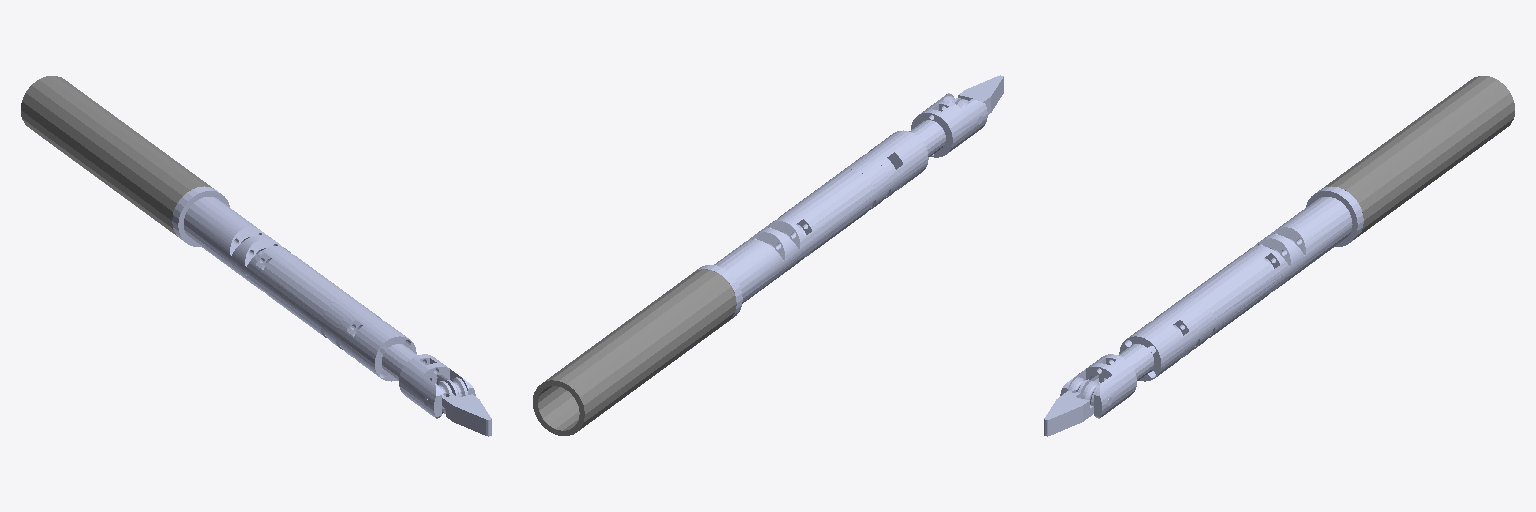
robot.urdf — V6_snake_URDF:
<?xml version="1.0" encoding="utf-8"?>
<!-- This URDF was automatically created by SolidWorks to URDF Exporter! Originally created by [author] ([email redacted]) 
     Commit Version: 1.6.0-4-g7f85cfe  Build Version: 1.6.7995.38578
     For more information, please see http://wiki.ros.org/sw_urdf_exporter -->
<robot
  name="V6_snake_URDF">
  <link
    name="base_link">
    <inertial>
      <origin
        xyz="-6.00193186120165E-19 -0.025 1.53075794227797E-18"
        rpy="0 0 0" />
      <mass
        value="0.00141371669411541" />
      <inertia
        ixx="3.09014907388726E-07"
        ixy="4.5457171897477E-39"
        ixz="-1.53575401744575E-40"
        iyy="2.89811922293659E-08"
        iyz="1.71465533434319E-23"
        izz="3.09014907388726E-07" />
    </inertial>
    <visual>
      <origin
        xyz="0 0 0"
        rpy="0 0 0" />
      <geometry>
        <mesh
          filename="package://V6_snake_URDF/meshes/base_link.STL" />
      </geometry>
      <material
        name="">
        <color
          rgba="0.6 0.6 0.6 1" />
      </material>
    </visual>
    <collision>
      <origin
        xyz="0 0 0"
        rpy="0 0 0" />
      <geometry>
        <mesh
          filename="package://V6_snake_URDF/meshes/base_link.STL" />
      </geometry>
    </collision>
  </link>
  <link
    name="snake_start_link">
    <inertial>
      <origin
        xyz="1.24160955017755E-09 -4.45492593524487E-05 -0.00957068753862889"
        rpy="0 0 0" />
      <mass
        value="0.000713238856062597" />
      <inertia
        ixx="3.17193124467156E-08"
        ixy="-2.20994755072542E-14"
        ixz="2.97494751897254E-15"
        iyy="3.17923732905446E-08"
        iyz="3.6370682285876E-10"
        izz="8.48646547018518E-09" />
    </inertial>
    <visual>
      <origin
        xyz="0 0 0"
        rpy="0 0 0" />
      <geometry>
        <mesh
          filename="package://V6_snake_URDF/meshes/snake_start_link.STL" />
      </geometry>
      <material
        name="">
        <color
          rgba="0.792156862745098 0.819607843137255 0.933333333333333 1" />
      </material>
    </visual>
    <collision>
      <origin
        xyz="0 0 0"
        rpy="0 0 0" />
      <geometry>
        <mesh
          filename="package://V6_snake_URDF/meshes/snake_start_link.STL" />
      </geometry>
    </collision>
  </link>
  <joint
    name="base_joint"
    type="prismatic">
    <origin
      xyz="0 -0.065 0"
      rpy="1.5708 0 0" />
    <parent
      link="base_link" />
    <child
      link="snake_start_link" />
    <axis
      xyz="0 0 1" />
    <limit
      lower="0"
      upper="0.2"
      effort="10"
      velocity="0.05" />
  </joint>
  <link
    name="shoulder_link">
    <inertial>
      <origin
        xyz="5.78425918277461E-08 -0.000557511336345803 0.00257487919106872"
        rpy="0 0 0" />
      <mass
        value="0.000114145071751143" />
      <inertia
        ixx="7.42514291105753E-10"
        ixy="-5.39522630107474E-14"
        ixz="1.84240253801457E-14"
        iyy="8.86624025245541E-10"
        iyz="-4.969337287048E-12"
        izz="1.2304404774517E-09" />
    </inertial>
    <visual>
      <origin
        xyz="0 0 0"
        rpy="0 0 0" />
      <geometry>
        <mesh
          filename="package://V6_snake_URDF/meshes/shoulder_link.STL" />
      </geometry>
      <material
        name="">
        <color
          rgba="0.792156862745098 0.819607843137255 0.933333333333333 1" />
      </material>
    </visual>
    <collision>
      <origin
        xyz="0 0 0"
        rpy="0 0 0" />
      <geometry>
        <mesh
          filename="package://V6_snake_URDF/meshes/shoulder_link.STL" />
      </geometry>
    </collision>
  </link>
  <joint
    name="shoulder_joint_prox"
    type="revolute">
    <origin
      xyz="0 0 0.0025"
      rpy="0 0 0" />
    <parent
      link="snake_start_link" />
    <child
      link="shoulder_link" />
    <axis
      xyz="1 0 0" />
    <limit
      lower="-0.785"
      upper="0"
      effort="1"
      velocity="1" />
  </joint>
  <link
    name="upperarm_link">
    <inertial>
      <origin
        xyz="-6.43813924643318E-09 1.46099472408447E-07 0.0129457663941619"
        rpy="0 0 0" />
      <mass
        value="0.000667220219941384" />
      <inertia
        ixx="3.38428069088239E-08"
        ixy="4.6496287404122E-14"
        ixz="-3.07986658596154E-14"
        iyy="3.39499671411492E-08"
        iyz="7.54026676061116E-10"
        izz="7.46250320454321E-09" />
    </inertial>
    <visual>
      <origin
        xyz="0 0 0"
        rpy="0 0 0" />
      <geometry>
        <mesh
          filename="package://V6_snake_URDF/meshes/upperarm_link.STL" />
      </geometry>
      <material
        name="">
        <color
          rgba="0.792156862745098 0.819607843137255 0.933333333333333 1" />
      </material>
    </visual>
    <collision>
      <origin
        xyz="0 0 0"
        rpy="0 0 0" />
      <geometry>
        <mesh
          filename="package://V6_snake_URDF/meshes/upperarm_link.STL" />
      </geometry>
    </collision>
  </link>
  <joint
    name="shoulder_joint_dist"
    type="revolute">
    <origin
      xyz="0 0 0.005"
      rpy="0 0 -3.14159265358979" />
    <parent
      link="shoulder_link" />
    <child
      link="upperarm_link" />
    <axis
      xyz="-1 0 0" />
    <limit
      lower="0"
      upper="0.785"
      effort="1"
      velocity="1" />
  </joint>
  <link
    name="elbow_link">
    <inertial>
      <origin
        xyz="5.78425918213392E-08 -0.000557511336345775 0.00257487919106873"
        rpy="0 0 0" />
      <mass
        value="0.000114145071751143" />
      <inertia
        ixx="7.42514291105759E-10"
        ixy="-5.39522630108521E-14"
        ixz="1.84240253795315E-14"
        iyy="8.86624025245547E-10"
        iyz="-4.96933728704794E-12"
        izz="1.23044047745171E-09" />
    </inertial>
    <visual>
      <origin
        xyz="0 0 0"
        rpy="0 0 0" />
      <geometry>
        <mesh
          filename="package://V6_snake_URDF/meshes/elbow_link.STL" />
      </geometry>
      <material
        name="">
        <color
          rgba="0.792156862745098 0.819607843137255 0.933333333333333 1" />
      </material>
    </visual>
    <collision>
      <origin
        xyz="0 0 0"
        rpy="0 0 0" />
      <geometry>
        <mesh
          filename="package://V6_snake_URDF/meshes/elbow_link.STL" />
      </geometry>
    </collision>
  </link>
  <joint
    name="elbow_joint_prox"
    type="revolute">
    <origin
      xyz="0 0 0.025"
      rpy="0 0 0" />
    <parent
      link="upperarm_link" />
    <child
      link="elbow_link" />
    <axis
      xyz="1 0 0" />
    <limit
      lower="-0.785"
      upper="0"
      effort="1"
      velocity="1" />
  </joint>
  <link
    name="forearm_link">
    <inertial>
      <origin
        xyz="-1.58174478649762E-08 0.000113577337572625 0.00663378686142239"
        rpy="0 0 0" />
      <mass
        value="0.000279249014923545" />
      <inertia
        ixx="5.12138448350693E-09"
        ixy="-9.0875146547501E-15"
        ixz="-2.11131737053282E-14"
        iyy="5.16018470733378E-09"
        iyz="1.90926868836851E-10"
        izz="3.23762727773142E-09" />
    </inertial>
    <visual>
      <origin
        xyz="0 0 0"
        rpy="0 0 0" />
      <geometry>
        <mesh
          filename="package://V6_snake_URDF/meshes/forearm_link.STL" />
      </geometry>
      <material
        name="">
        <color
          rgba="0.792156862745098 0.819607843137255 0.933333333333333 1" />
      </material>
    </visual>
    <collision>
      <origin
        xyz="0 0 0"
        rpy="0 0 0" />
      <geometry>
        <mesh
          filename="package://V6_snake_URDF/meshes/forearm_link.STL" />
      </geometry>
    </collision>
  </link>
  <joint
    name="elbow_joint_dist"
    type="revolute">
    <origin
      xyz="0 0 0.00500000000000002"
      rpy="0 0 3.14159265358979" />
    <parent
      link="elbow_link" />
    <child
      link="forearm_link" />
    <axis
      xyz="-1 0 0" />
    <limit
      lower="0"
      upper="0.785"
      effort="1"
      velocity="1" />
  </joint>
  <link
    name="hand_link">
    <inertial>
      <origin
        xyz="-4.08142888056513E-10 -9.15879971724246E-10 0.011037074265158"
        rpy="0 0 0" />
      <mass
        value="0.000404964898437663" />
      <inertia
        ixx="1.35662740180767E-08"
        ixy="7.12341238548104E-15"
        ixz="-8.95894024126752E-16"
        iyy="1.43952427195592E-08"
        iyz="3.05221398270557E-15"
        izz="3.38277628514735E-09" />
    </inertial>
    <visual>
      <origin
        xyz="0 0 0"
        rpy="0 0 0" />
      <geometry>
        <mesh
          filename="package://V6_snake_URDF/meshes/hand_link.STL" />
      </geometry>
      <material
        name="">
        <color
          rgba="0.792156862745098 0.819607843137255 0.933333333333333 1" />
      </material>
    </visual>
    <collision>
      <origin
        xyz="0 0 0"
        rpy="0 0 0" />
      <geometry>
        <mesh
          filename="package://V6_snake_URDF/meshes/hand_link.STL" />
      </geometry>
    </collision>
  </link>
  <joint
    name="wrist_joint"
    type="revolute">
    <origin
      xyz="0 0 0.0105"
      rpy="0 0 0" />
    <parent
      link="forearm_link" />
    <child
      link="hand_link" />
    <axis
      xyz="0 0 -1" />
    <limit
      lower="-1.57"
      upper="1.57"
      effort="1"
      velocity="1" />
  </joint>
  <link
    name="gripper_1">
    <inertial>
      <origin
        xyz="-0.00064475917825679 0.00180385117361328 0.00394960361493563"
        rpy="0 0 0" />
      <mass
        value="9.59439630385687E-05" />
      <inertia
        ixx="1.92258072211134E-09"
        ixy="-1.01528315485198E-10"
        ixz="-2.27687484832753E-10"
        iyy="1.70112204989544E-09"
        iyz="-6.33499031928457E-10"
        izz="4.99400354933341E-10" />
    </inertial>
    <visual>
      <origin
        xyz="0 0 0"
        rpy="0 0 0" />
      <geometry>
        <mesh
          filename="package://V6_snake_URDF/meshes/gripper_1.STL" />
      </geometry>
      <material
        name="">
        <color
          rgba="0.792156862745098 0.819607843137255 0.933333333333333 1" />
      </material>
    </visual>
    <collision>
      <origin
        xyz="0 0 0"
        rpy="0 0 0" />
      <geometry>
        <mesh
          filename="package://V6_snake_URDF/meshes/gripper_1.STL" />
      </geometry>
    </collision>
  </link>
  <joint
    name="gripper_joint_1"
    type="revolute">
    <origin
      xyz="0 0 0.019"
      rpy="0.329304747776595 0 0" />
    <parent
      link="hand_link" />
    <child
      link="gripper_1" />
    <axis
      xyz="-1 0 0" />
    <limit
      lower="-0.785"
      upper="0"
      effort="1"
      velocity="1" />
  </joint>
  <link
    name="gripper_2">
    <inertial>
      <origin
        xyz="-0.00064476 0.0018039 0.0039496"
        rpy="0 0 0" />
      <mass
        value="9.5944E-05" />
      <inertia
        ixx="1.9226E-09"
        ixy="-1.0153E-10"
        ixz="-2.2769E-10"
        iyy="1.7011E-09"
        iyz="-6.335E-10"
        izz="4.994E-10" />
    </inertial>
    <visual>
      <origin
        xyz="0 0 0"
        rpy="0 0 0" />
      <geometry>
        <mesh
          filename="package://V6_snake_URDF/meshes/gripper_2.STL" />
      </geometry>
      <material
        name="">
        <color
          rgba="0.79216 0.81961 0.93333 1" />
      </material>
    </visual>
    <collision>
      <origin
        xyz="0 0 0"
        rpy="0 0 0" />
      <geometry>
        <mesh
          filename="package://V6_snake_URDF/meshes/gripper_2.STL" />
      </geometry>
    </collision>
  </link>
  <joint
    name="gripper_2"
    type="revolute">
    <origin
      xyz="0 0 0.019"
      rpy="0.329304747776595 0 3.14159265358979" />
    <parent
      link="hand_link" />
    <child
      link="gripper_2" />
    <axis
      xyz="1 0 0" />
    <limit
      lower="0"
      upper="0.785"
      effort="1"
      velocity="1" />
  </joint>
</robot>

--- Render facts (derived) ---
The picture shows the robot from 3 angles, left to right: view 1: azimuth 30°, elevation 25°; view 2: azimuth 150°, elevation 25°; view 3: azimuth 330°, elevation 25°; orthographic projection.
Model V6_snake_URDF with 9 links and 8 joints (7 revolute, 1 prismatic), rooted at base_link, posed every joint at zero.
Links seen in each view (by area): view 1: base_link, upperarm_link, snake_start_link, hand_link, forearm_link, gripper_1, elbow_link, shoulder_link, gripper_2; view 2: base_link, upperarm_link, hand_link, snake_start_link, forearm_link, elbow_link, shoulder_link, gripper_1; view 3: base_link, upperarm_link, snake_start_link, hand_link, forearm_link, gripper_1, elbow_link, shoulder_link, gripper_2.
Boxes of the visible links, left/top/right/bottom form: base_link: left=21, top=76, right=213, bottom=236; upperarm_link: left=246, top=246, right=353, bottom=337; snake_start_link: left=172, top=186, right=265, bottom=270; hand_link: left=382, top=344, right=475, bottom=418; forearm_link: left=337, top=309, right=416, bottom=381; gripper_1: left=435, top=381, right=491, bottom=427; elbow_link: left=322, top=298, right=368, bottom=349; shoulder_link: left=231, top=234, right=280, bottom=283; gripper_2: left=444, top=377, right=491, bottom=436; base_link: left=533, top=269, right=736, bottom=435; upperarm_link: left=764, top=169, right=876, bottom=263; hand_link: left=889, top=93, right=987, bottom=168; snake_start_link: left=696, top=240, right=785, bottom=321; forearm_link: left=856, top=130, right=928, bottom=198; elbow_link: left=841, top=158, right=892, bottom=209; shoulder_link: left=749, top=228, right=801, bottom=275; gripper_1: left=957, top=75, right=1003, bottom=108; base_link: left=1322, top=76, right=1514, bottom=236; upperarm_link: left=1182, top=246, right=1289, bottom=337; snake_start_link: left=1270, top=186, right=1363, bottom=272; hand_link: left=1060, top=344, right=1153, bottom=418; forearm_link: left=1119, top=309, right=1198, bottom=381; gripper_1: left=1044, top=377, right=1091, bottom=427; elbow_link: left=1167, top=298, right=1213, bottom=349; shoulder_link: left=1255, top=234, right=1304, bottom=283; gripper_2: left=1044, top=381, right=1100, bottom=436.
Size in the robot's own frame: 0.01 by 0.1461 by 0.01 metres.
9 mesh visuals loaded from 9 distinct referenced files (9 binary STL).